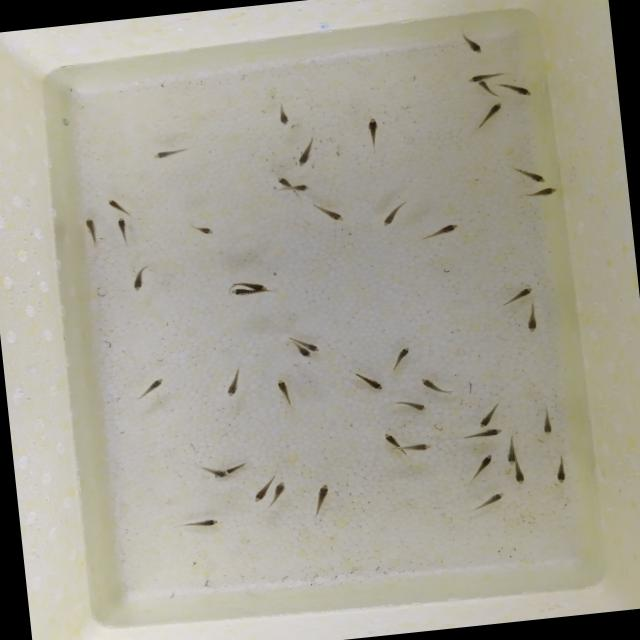fingerling: (312, 198, 348, 226), (76, 214, 104, 248), (134, 376, 169, 402), (417, 222, 466, 240), (383, 399, 432, 416), (500, 79, 536, 101), (311, 483, 333, 518), (419, 374, 451, 398), (455, 32, 484, 58), (272, 376, 298, 404), (474, 101, 508, 122), (548, 461, 574, 488), (292, 143, 320, 168), (502, 286, 536, 306), (358, 370, 386, 394), (535, 410, 560, 436), (102, 193, 130, 216), (516, 166, 546, 187), (377, 204, 402, 229), (270, 103, 294, 129), (112, 216, 132, 247), (268, 480, 290, 508), (520, 184, 557, 200), (148, 145, 190, 159), (462, 428, 510, 440), (523, 304, 541, 336), (362, 113, 384, 139), (180, 516, 220, 530), (476, 492, 505, 511), (504, 436, 522, 466), (390, 442, 434, 454), (392, 342, 412, 368), (226, 370, 242, 401), (476, 407, 498, 429), (478, 452, 498, 476), (252, 478, 271, 503), (468, 70, 504, 83), (202, 466, 230, 482), (478, 80, 499, 101), (509, 466, 532, 484), (128, 268, 145, 292), (276, 182, 308, 194), (192, 224, 218, 236), (245, 280, 268, 292), (232, 287, 254, 299), (273, 174, 295, 184), (304, 340, 320, 353), (382, 431, 397, 444), (297, 345, 310, 359)
